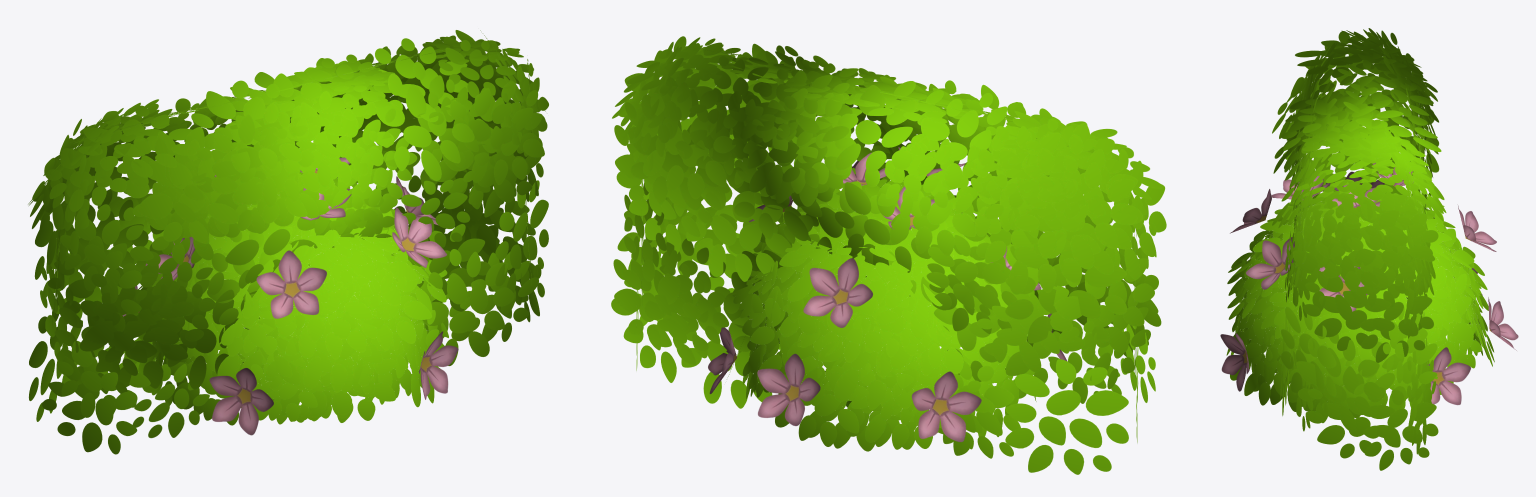
The model's file is bushes.glb.
The picture shows the model from 3 angles, left to right: view 1: azimuth 30°, elevation 25°; view 2: azimuth 150°, elevation 25°; view 3: azimuth 270°, elevation 25°; orthographic projection. The views are drawn at different scales.
Visible parts, largest first — view 1: Bush_Large, Bush_Flowers, Bush; view 2: Bush_Large, Bush_Flowers, Bush; view 3: Bush_Large, Bush_Flowers, Bush.
Boxes of the visible parts, x1,y1,x2,y2 form: Bush_Large: (28, 30, 548, 454); Bush_Flowers: (122, 157, 458, 435); Bush: (141, 178, 448, 425); Bush_Large: (611, 36, 1166, 474); Bush_Flowers: (708, 147, 1067, 451); Bush: (738, 179, 1041, 449); Bush_Large: (1272, 28, 1446, 470); Bush_Flowers: (1220, 162, 1518, 411); Bush: (1226, 190, 1493, 418).
Size of the model in its own units: 1.9 by 1.22 by 1.11.
Materials: 2 (2 with a texture image).
